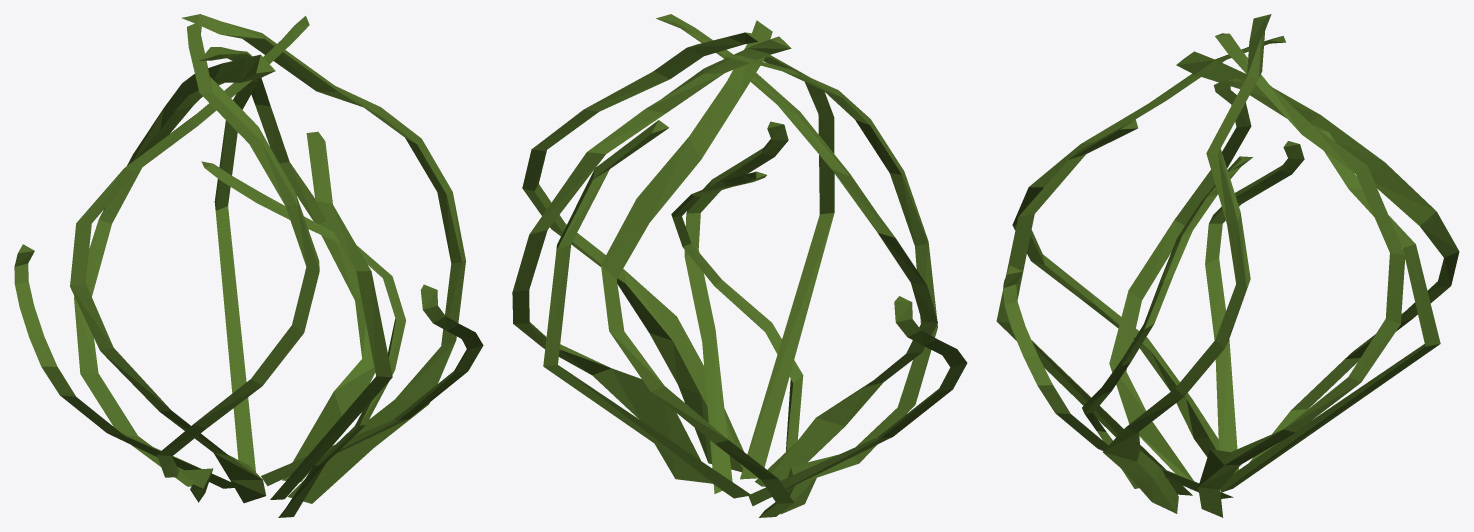
Rendered from Desert_plant_017.glb.
3 views of the same model, side by side, from view 1: azimuth 30°, elevation 25°; view 2: azimuth 150°, elevation 25°; view 3: azimuth 270°, elevation 25° (orthographic). The views are drawn at different scales.
Parts seen in each view (by area): view 1: Desert_plant_017; view 2: Desert_plant_017; view 3: Desert_plant_017.
Boxes of the visible parts, box(x1,y1,x2,y2) form: Desert_plant_017: box(14, 14, 483, 517); Desert_plant_017: box(512, 14, 967, 517); Desert_plant_017: box(996, 14, 1459, 517).
Bounding box in the file's own units: 0.4138 × 0.4359 × 0.4006.
1 material, 1 textured.
